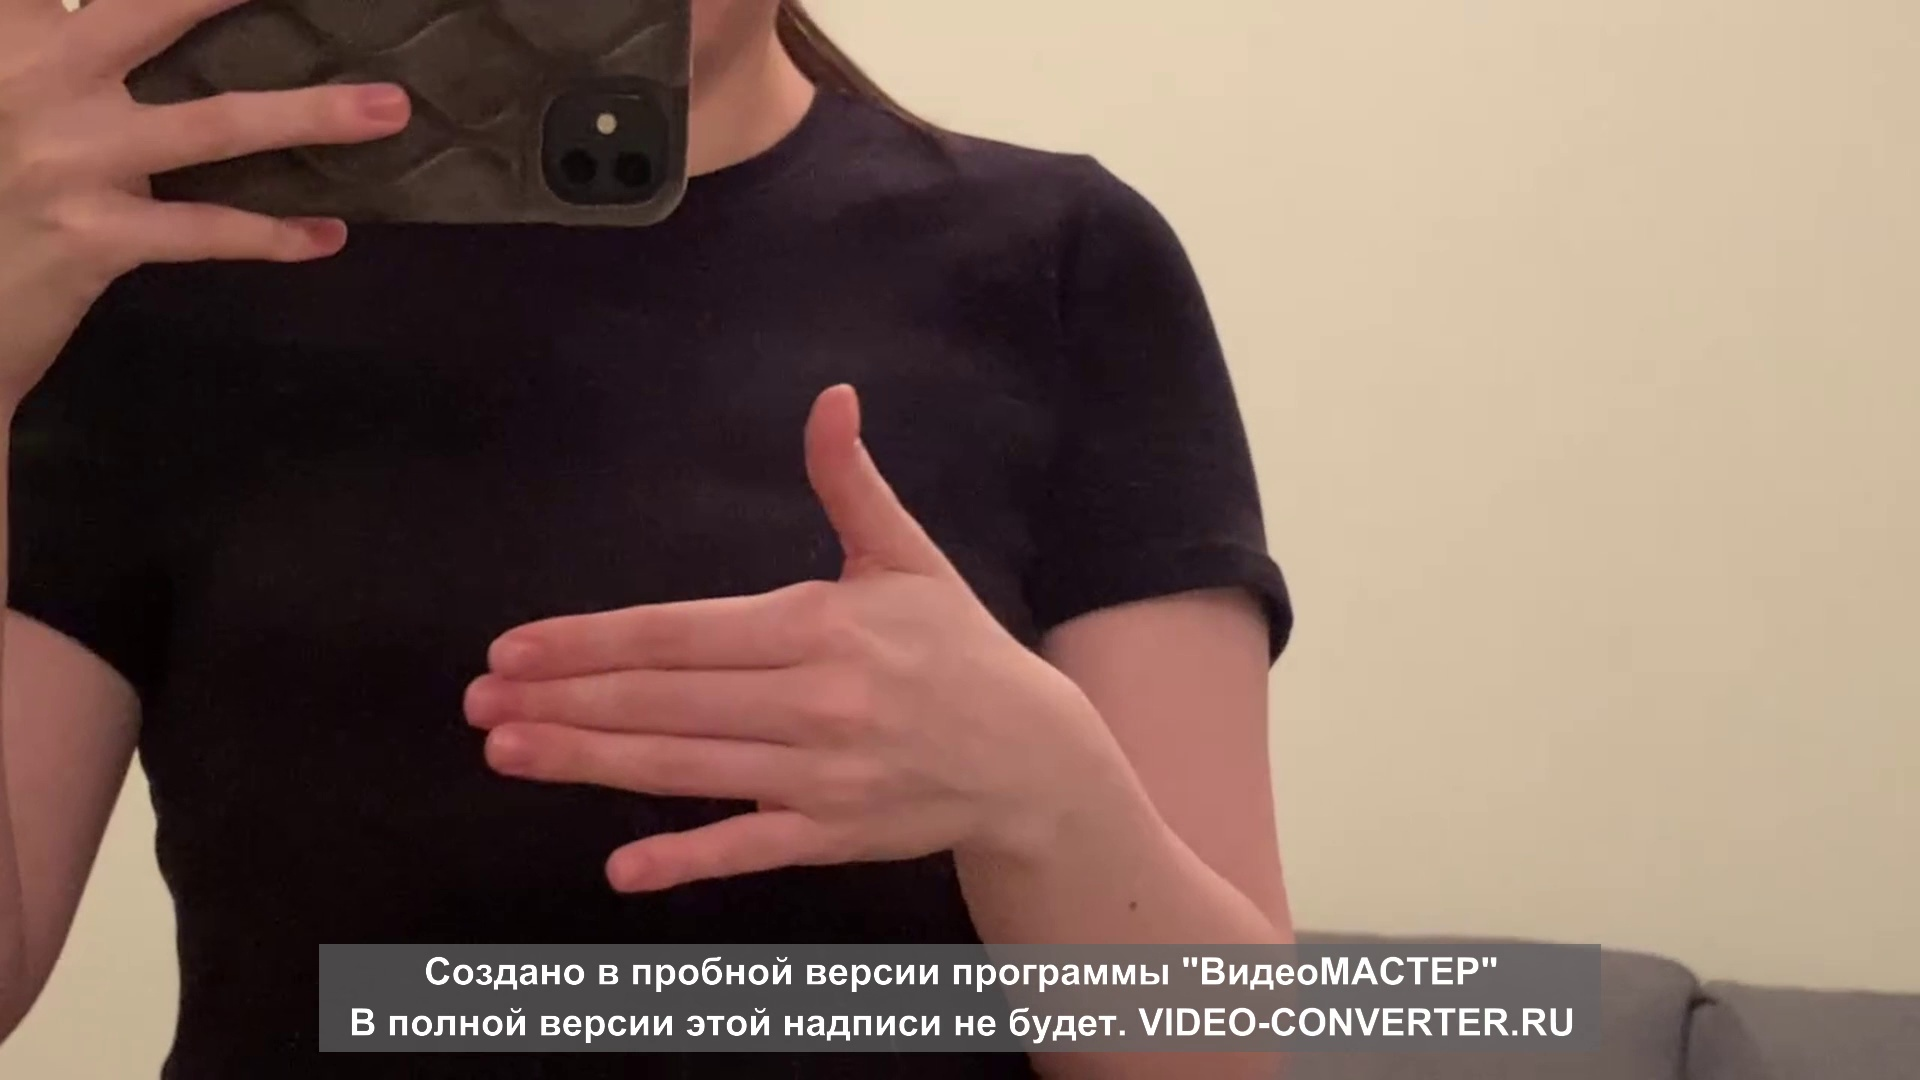Кисть: (463, 384, 1033, 887)
